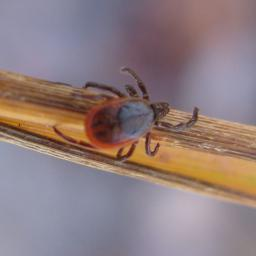Ixodes scapularis: (52, 67, 199, 158)
